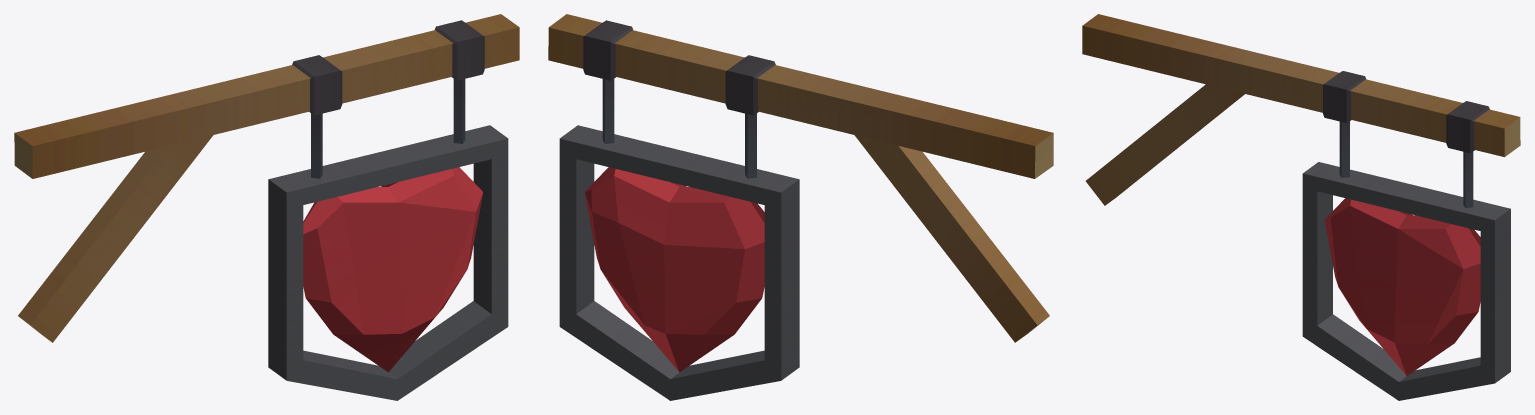
Rendered from SignBoard_7_LOD1.fbx.
The picture shows the model from 3 angles, left to right: view 1: azimuth 30°, elevation 25°; view 2: azimuth 150°, elevation 25°; view 3: azimuth 330°, elevation 25°; orthographic projection. The views are drawn at different scales.
Visible parts, largest first — view 1: polySurface10662; view 2: polySurface10662; view 3: polySurface10662.
Part boxes in pixels (left/top/right/bottom): polySurface10662: left=14, top=14, right=519, bottom=400; polySurface10662: left=548, top=14, right=1053, bottom=400; polySurface10662: left=1082, top=14, right=1520, bottom=400.
Size of the model in its own units: 308 by 209 by 32.16.
